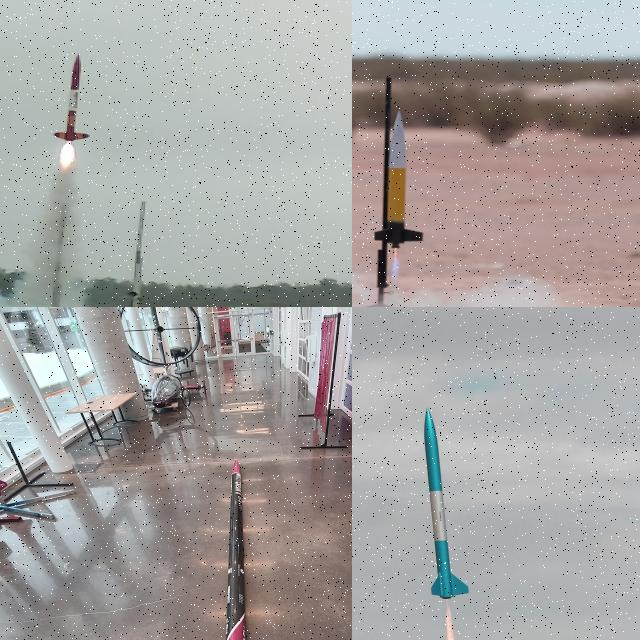Rocket: (422, 407, 470, 600), (375, 110, 423, 250), (225, 459, 246, 640), (52, 52, 92, 142)
